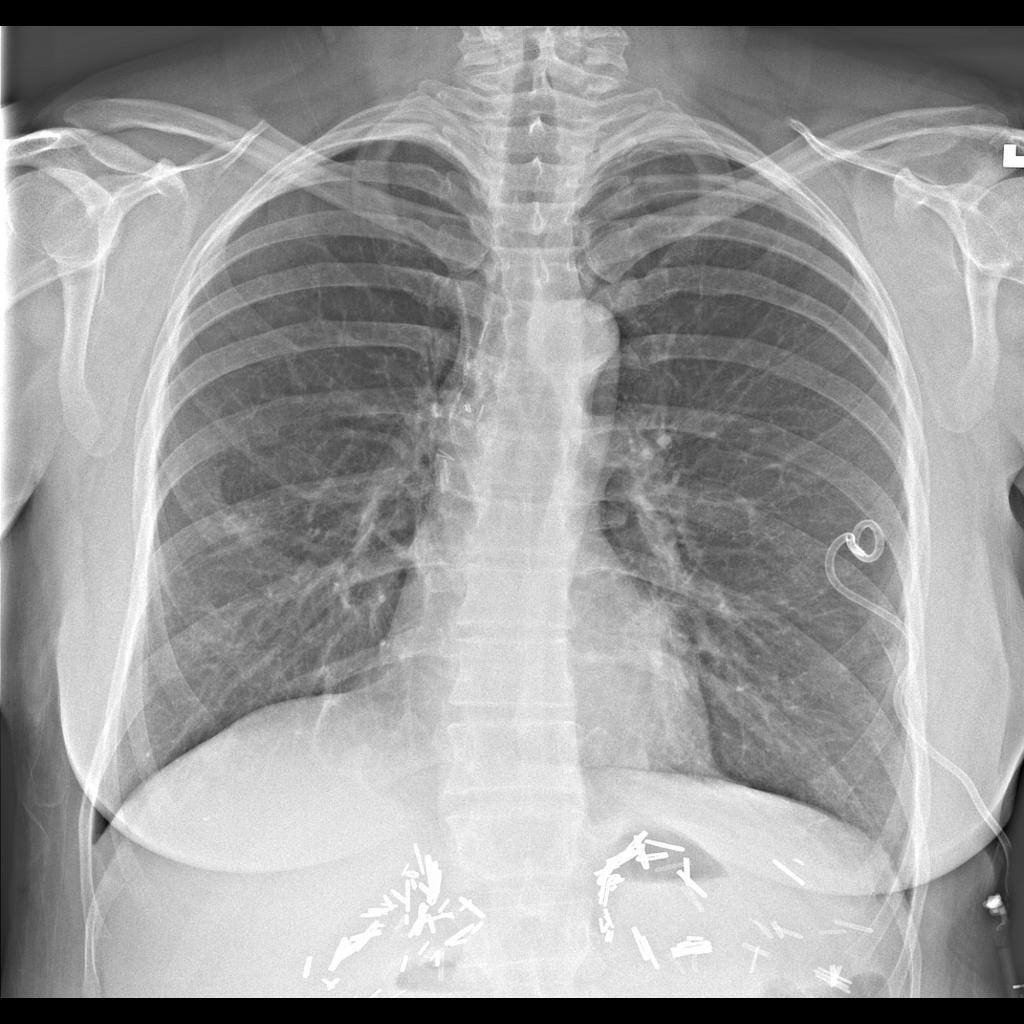Nodule: (616, 588, 694, 674)
